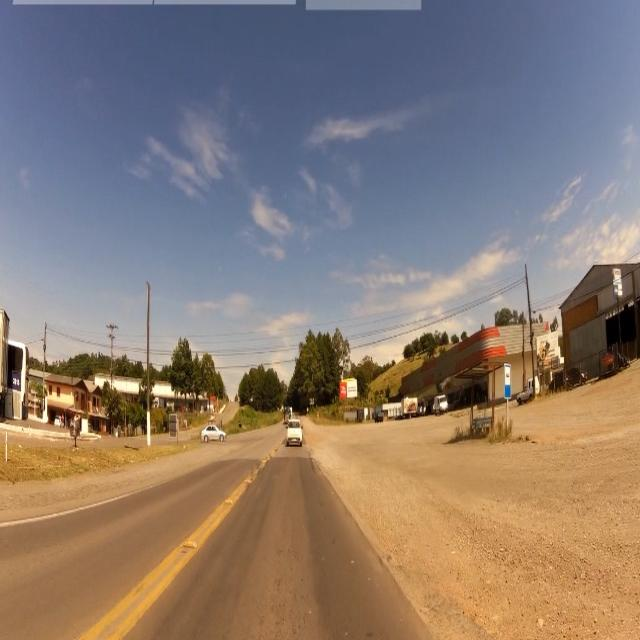S-14: (504, 362, 511, 402)
